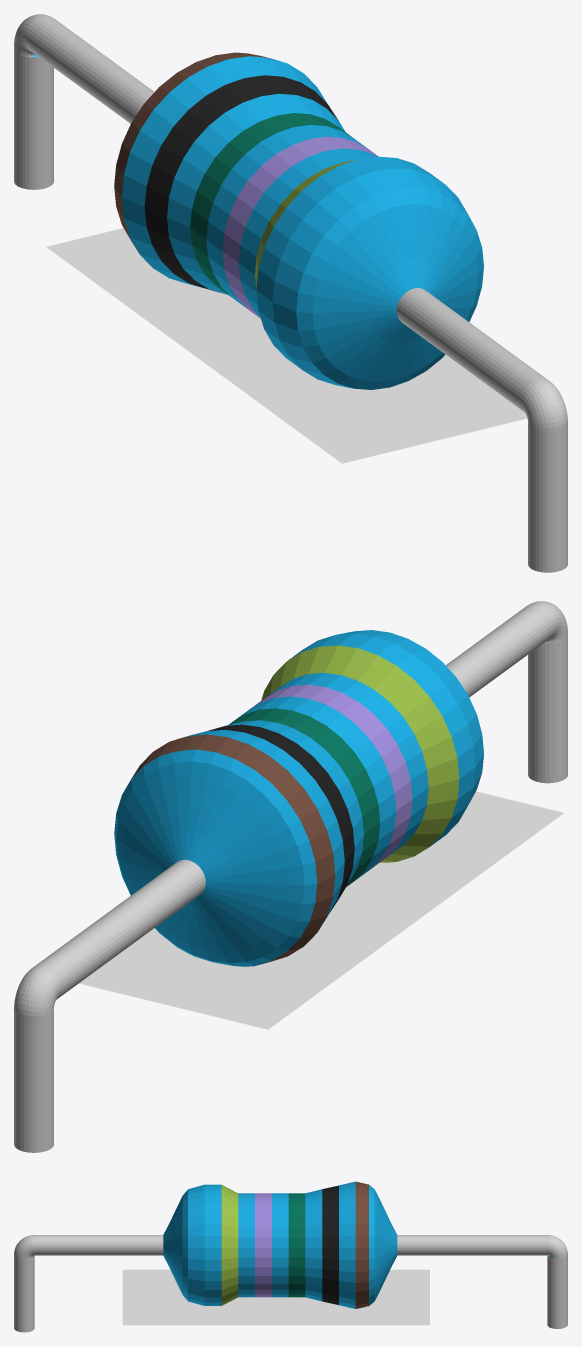
The model's file is R2_blue_1.gltf.
3 views of the same model, one above another, from view 1: azimuth 30°, elevation 25°; view 2: azimuth 150°, elevation 25°; view 3: azimuth 270°, elevation 25° (orthographic). The views are drawn at different scales.
Parts seen in each view (by area): view 1: R2_blue_1, R2_blue_1_plane; view 2: R2_blue_1, R2_blue_1_plane; view 3: R2_blue_1, R2_blue_1_plane.
Part boxes in pixels (x1=…): R2_blue_1: x1=14, y1=14, x2=567, y2=572; R2_blue_1_plane: x1=46, y1=228, x2=527, y2=463; R2_blue_1: x1=14, y1=601, x2=567, y2=1152; R2_blue_1_plane: x1=79, y1=791, x2=563, y2=1029; R2_blue_1: x1=14, y1=1181, x2=567, y2=1332; R2_blue_1_plane: x1=122, y1=1269, x2=429, y2=1325.
Bounding box in the file's own units: 0.0161 × 0.0189 × 0.0676.
